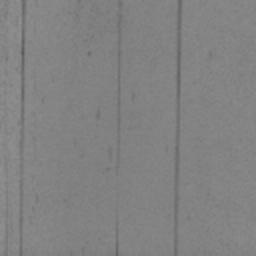Scratches: (173, 0, 183, 256), (18, 0, 27, 256), (117, 12, 123, 146), (3, 223, 10, 256), (115, 220, 120, 256), (4, 156, 9, 175)
